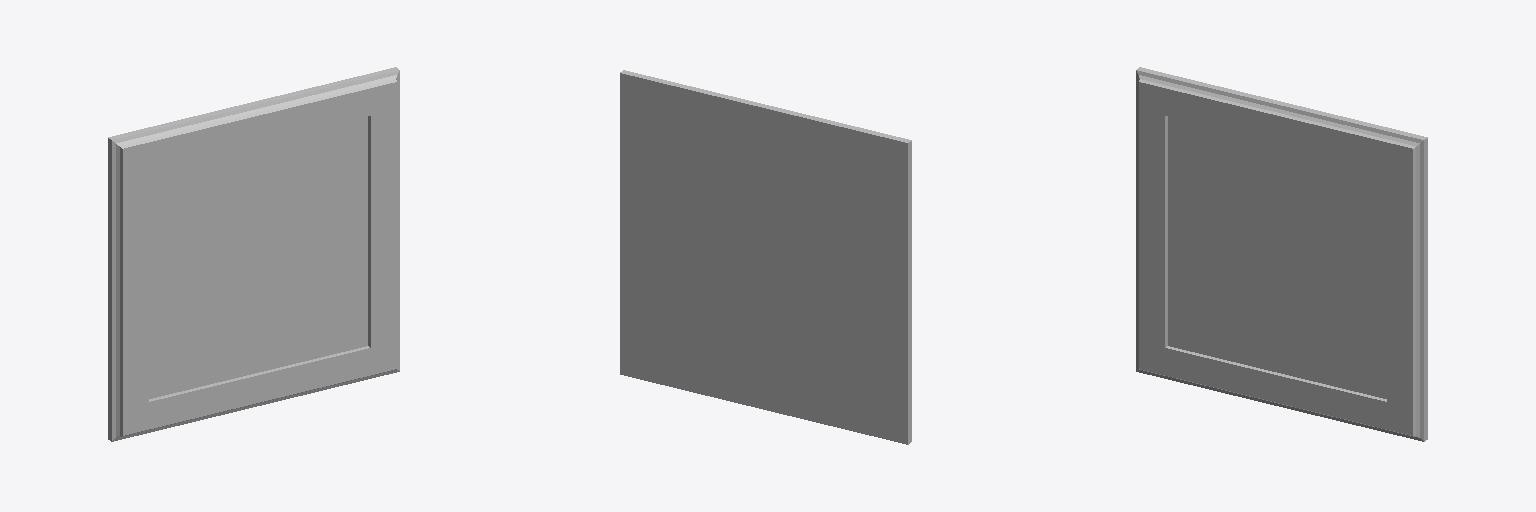
Rendered from ChessboardBase2.obj.
3 renders of one model, left to right at view 1: azimuth 30°, elevation 25°; view 2: azimuth 150°, elevation 25°; view 3: azimuth 330°, elevation 25°, orthographic.
Parts seen in each view (by area): view 1: Chessboard_Surround_Plane; view 2: Chessboard_Surround_Plane; view 3: Chessboard_Surround_Plane.
Boxes of the visible parts, x1,y1,x2,y2 form: Chessboard_Surround_Plane: [108, 67, 399, 441]; Chessboard_Surround_Plane: [620, 70, 911, 444]; Chessboard_Surround_Plane: [1136, 67, 1427, 441].
Size of the model in its own units: 62.4 by 62.4 by 3.